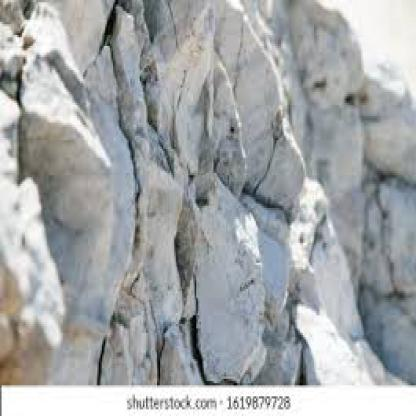Sedimentary_Chalk: (106, 84, 290, 374)
